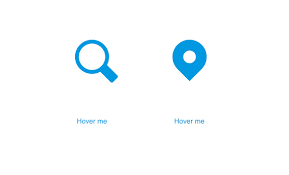searchIcon: (75, 39, 119, 83)
